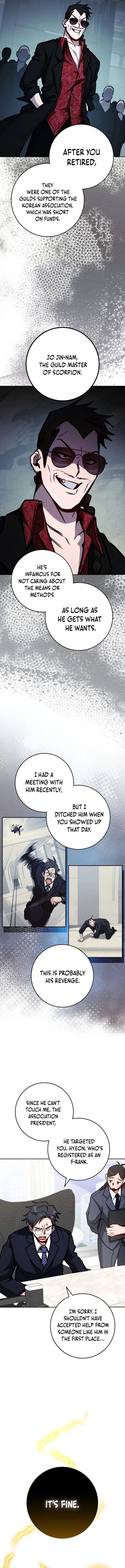bubbles: (9, 123, 116, 238), (9, 549, 114, 652), (13, 1082, 111, 1188), (13, 752, 111, 851), (25, 325, 102, 404), (25, 1465, 99, 1541), (47, 1285, 118, 1360), (30, 944, 95, 1009)
